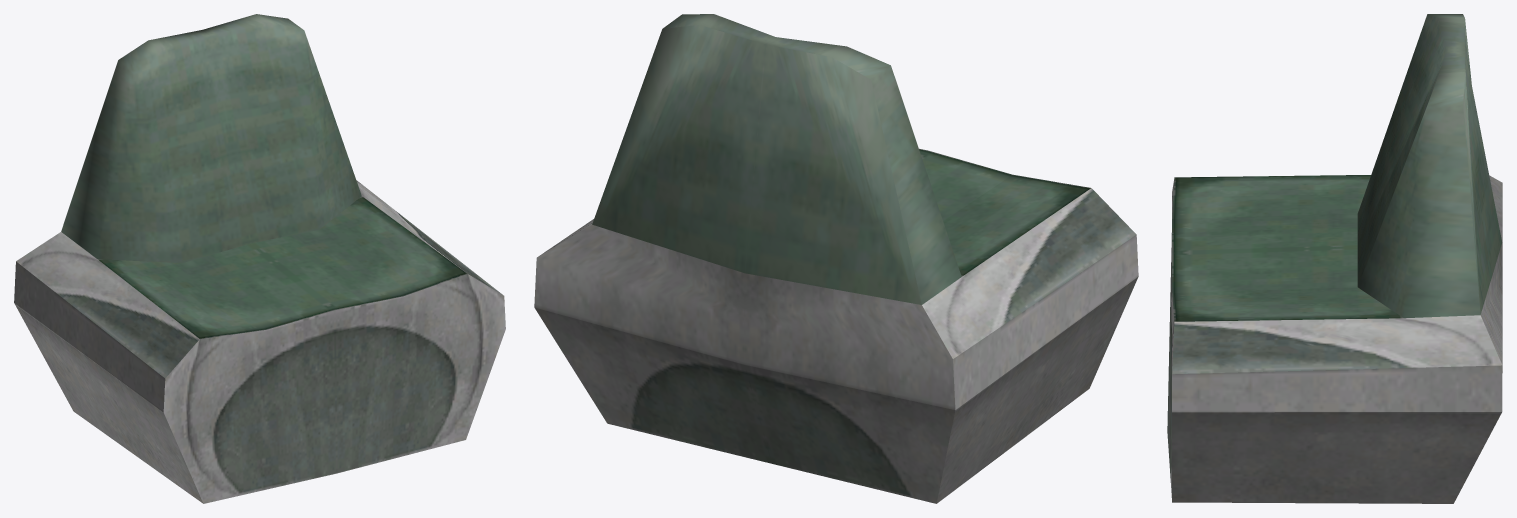
The model's file is frn_jedi_chair_light_s2_l1.fbx.
The picture shows the model from 3 angles, left to right: view 1: azimuth 30°, elevation 25°; view 2: azimuth 150°, elevation 25°; view 3: azimuth 270°, elevation 25°; orthographic projection. The views are drawn at different scales.
Visible parts, largest first — view 1: mesh_node; view 2: mesh_node; view 3: mesh_node.
Boxes of the visible parts, left/top/right/bottom form: mesh_node: left=14, top=14, right=505, bottom=503; mesh_node: left=534, top=14, right=1138, bottom=503; mesh_node: left=1167, top=14, right=1502, bottom=503.
Bounding box in the file's own units: 0.9167 × 0.889 × 0.7025.
